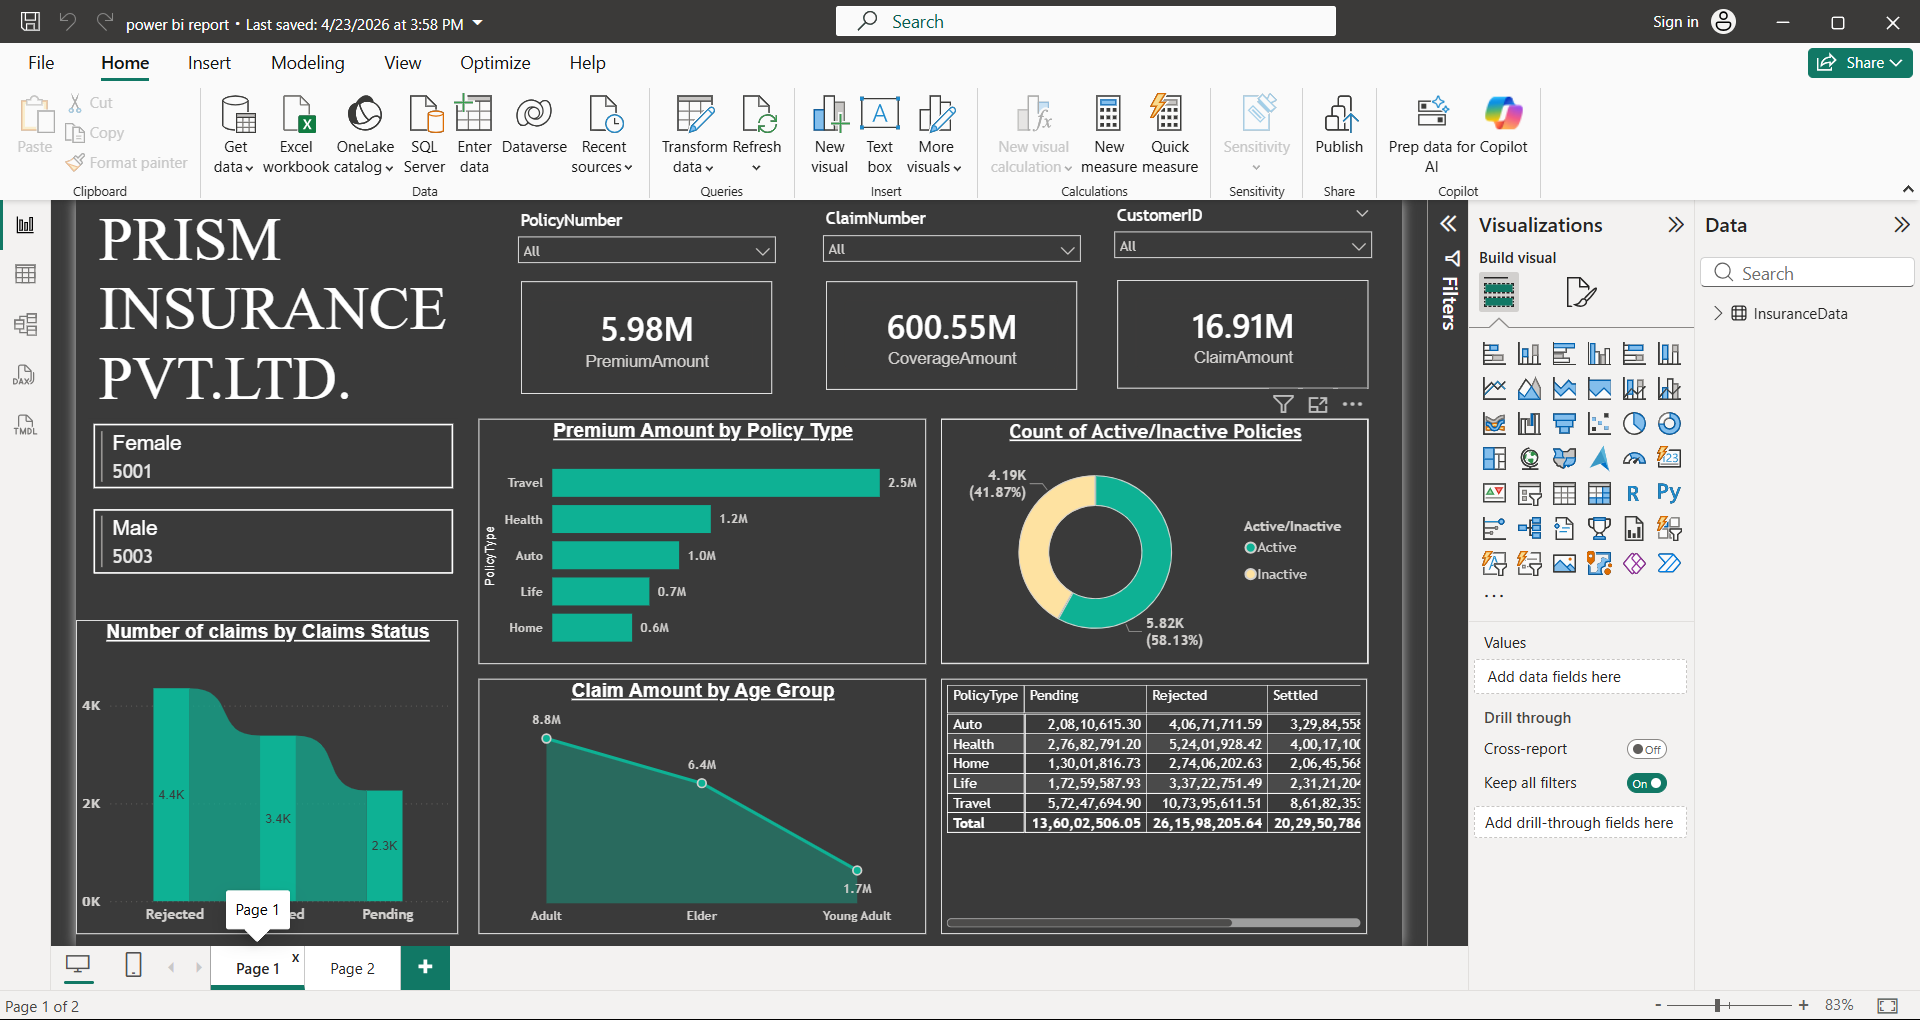

This screenshot's page, from the dashboard's own definition file:
{"tool":"powerbi","page":{"name":"Dashboard overbiew","canvas":[1280,720],"ordinal":0},"visuals":[{"type":"slicer","fields":{"Values":["InsuranceData.PolicyNumber"]},"box":[416.2,4.8,269,73.6],"z":0},{"type":"slicer","fields":{"Values":["InsuranceData.ClaimNumber"]},"box":[710.6,3.6,269,73.6],"z":1000},{"type":"slicer","fields":{"Values":["InsuranceData.CustomerID"]},"box":[991.7,0,269,73.6],"z":2000},{"type":"textbox","box":[16.9,0,360.7,219.6],"z":3000},{"type":"cardVisual","fields":{"Data":["Sum(InsuranceData.PremiumAmount)"]},"box":[429.5,78.4,242.5,108.6],"z":4000},{"type":"cardVisual","fields":{"Data":["Sum(InsuranceData.CoverageAmount)"]},"box":[723.9,78.4,242.5,105],"z":5000},{"type":"cardVisual","fields":{"Data":["Sum(InsuranceData.ClaimAmount)"]},"box":[1005,77.2,242.5,105],"z":6000},{"type":"multiRowCard","fields":{"Values":["InsuranceData.Gender","CountNonNull(InsuranceData.Gender)"]},"box":[12.1,211.1,357.1,194.2],"z":7000},{"type":"ribbonChart","title":" Number of claims by Claims Status","fields":{"Category":["InsuranceData.ClaimStatus"],"Y":["CountNonNull(InsuranceData.ClaimStatus)"]},"box":[0,405.4,369.2,302.8],"z":8000},{"type":"barChart","title":"Premium Amount by Policy Type","fields":{"Category":["InsuranceData.PolicyType"],"Y":["Sum(InsuranceData.PremiumAmount)"]},"box":[388.5,211.1,431.9,236.5],"z":9000},{"type":"lineChart","title":"Claim Amount by Age Group","fields":{"Category":["InsuranceData.Age Group"],"Y":["Sum(InsuranceData.ClaimAmount)"]},"box":[388.5,462.1,431.9,246.1],"z":10000},{"type":"donutChart","title":"Count of Active/Inactive  Policies","fields":{"Category":["InsuranceData.Active/Inactive"],"Y":["CountNonNull(InsuranceData.Active/Inactive)"]},"box":[834.9,211.1,412.6,236.5],"z":11000},{"type":"pivotTable","fields":{"Values":["Sum(InsuranceData.CoverageAmount)"],"Rows":["InsuranceData.PolicyType"],"Columns":["InsuranceData.ClaimStatus"]},"box":[834.9,462.1,411.4,246.1],"z":12000}]}

Visuals, with their boxes on the page's 1280x720 design canvas (x1, y1, x2, y2). These are canvas units, not pixel positions in the 1920x1020 screenshot, which may show the page scaled, cropped or inside an application window:
slicer - InsuranceData.PolicyNumber: <box>416,5,685,78</box>
slicer - InsuranceData.ClaimNumber: <box>711,4,980,77</box>
slicer - InsuranceData.CustomerID: <box>992,0,1261,74</box>
textbox: <box>17,0,378,220</box>
cardVisual - Sum(InsuranceData.PremiumAmount): <box>430,78,672,187</box>
cardVisual - Sum(InsuranceData.CoverageAmount): <box>724,78,966,183</box>
cardVisual - Sum(InsuranceData.ClaimAmount): <box>1005,77,1248,182</box>
multiRowCard - InsuranceData.Gender x CountNonNull(InsuranceData.Gender): <box>12,211,369,405</box>
" Number of claims by Claims Status" ribbonChart: <box>0,405,369,708</box>
"Premium Amount by Policy Type" barChart: <box>388,211,820,448</box>
"Claim Amount by Age Group" lineChart: <box>388,462,820,708</box>
"Count of Active/Inactive  Policies" donutChart: <box>835,211,1248,448</box>
pivotTable - Sum(InsuranceData.CoverageAmount) x InsuranceData.PolicyType: <box>835,462,1246,708</box>
